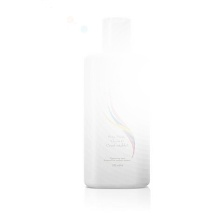book: (77, 13, 154, 193)
